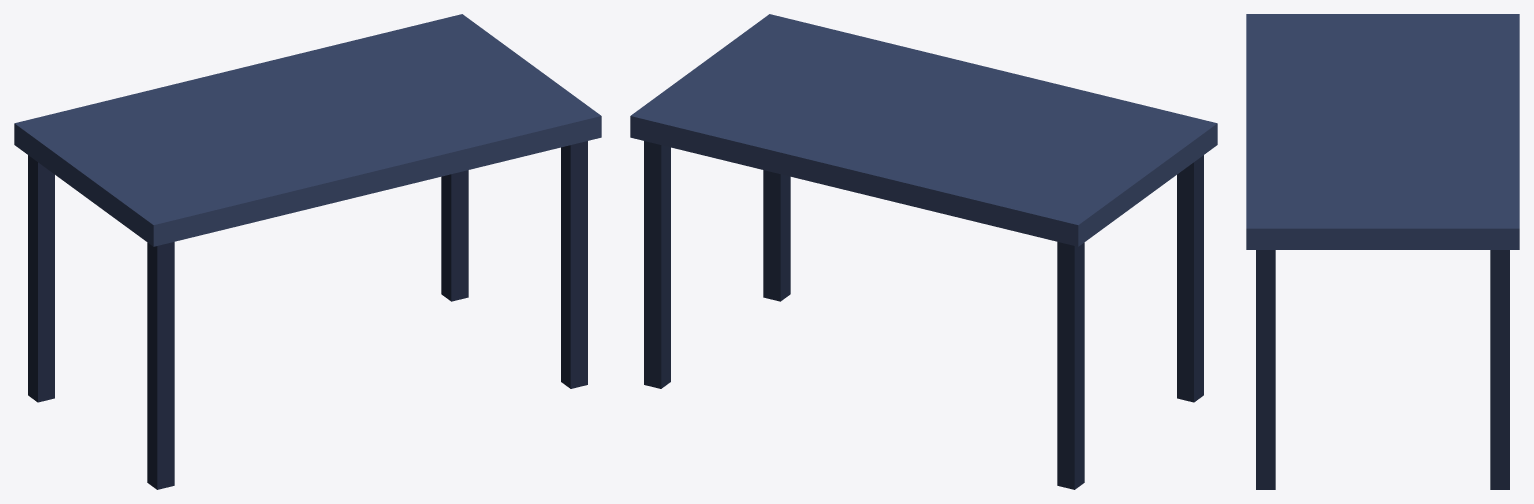
The model's file is desk.glb.
3 renders of one model, left to right at view 1: azimuth 30°, elevation 25°; view 2: azimuth 150°, elevation 25°; view 3: azimuth 270°, elevation 25°, orthographic.
Visible parts, largest first — view 1: top, desk; view 2: top, desk; view 3: top, desk.
Boxes of the visible parts, left/top/right/bottom form: top: left=14, top=14, right=601, bottom=246; desk: left=28, top=141, right=587, bottom=489; top: left=630, top=14, right=1217, bottom=246; desk: left=644, top=141, right=1203, bottom=489; top: left=1246, top=14, right=1519, bottom=249; desk: left=1256, top=250, right=1509, bottom=489.
Bounding box in the file's own units: 1.3 × 0.75 × 0.7.
